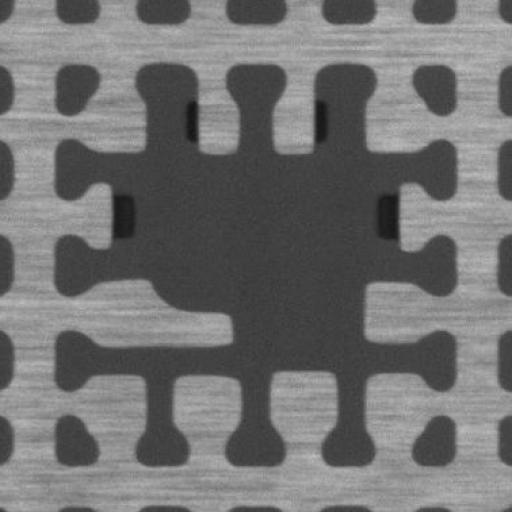NO_DIE: (53, 60, 460, 470)
